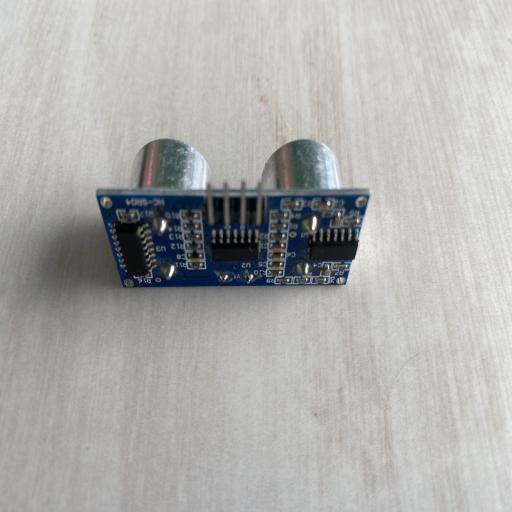Ultrasonic Sensor: (95, 137, 372, 289)
